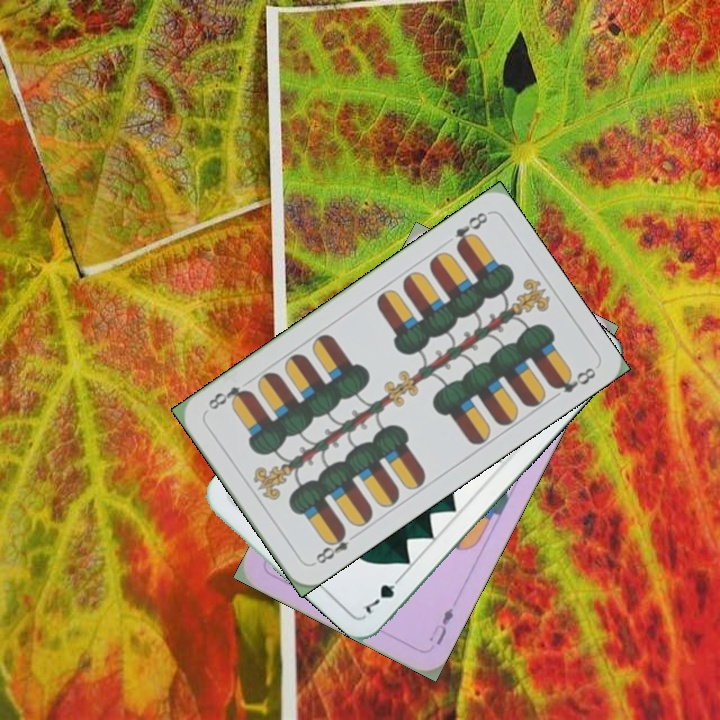E8: (308, 524, 361, 568), (451, 208, 491, 252)
EU: (425, 604, 456, 648)
G7: (358, 570, 406, 617)
